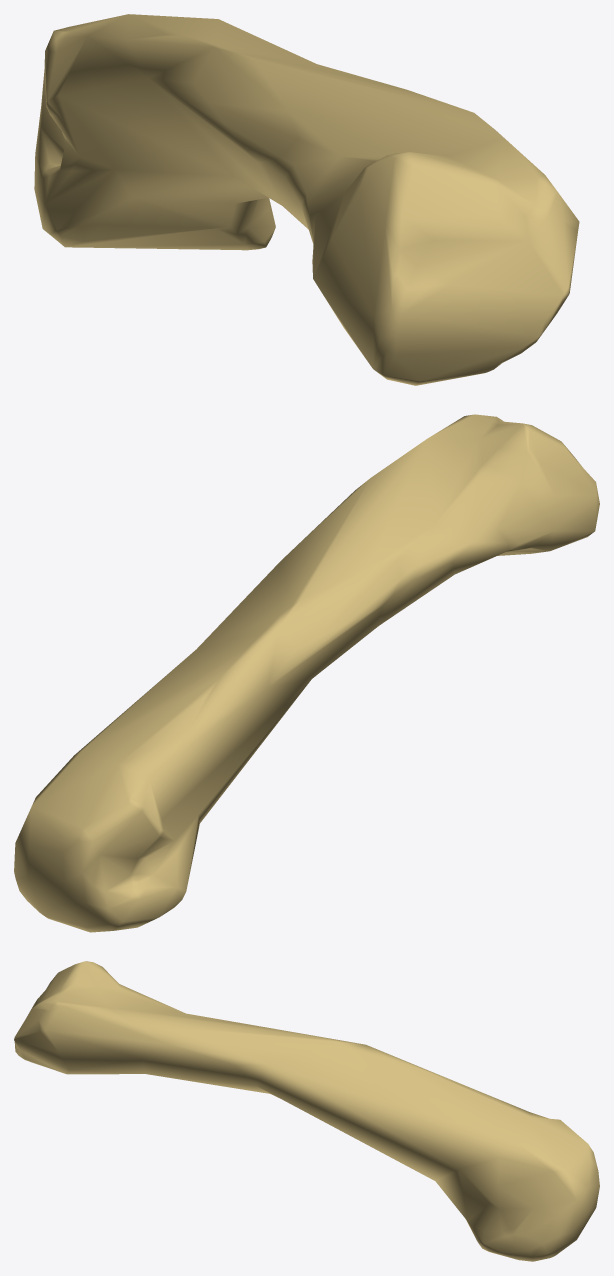
3 views of the same model, one above another, from view 1: azimuth 30°, elevation 25°; view 2: azimuth 150°, elevation 25°; view 3: azimuth 270°, elevation 25° (orthographic). The views are drawn at different scales.
Parts seen in each view (by area): view 1: 右侧第五掌骨; view 2: 右侧第五掌骨; view 3: 右侧第五掌骨.
Part boxes in pixels (x1,y1,x2,y2): 右侧第五掌骨: [34, 14, 579, 385]; 右侧第五掌骨: [14, 414, 599, 932]; 右侧第五掌骨: [14, 961, 599, 1261].
Size of the model in its own units: 0.0308 by 0.0376 by 0.0839.
